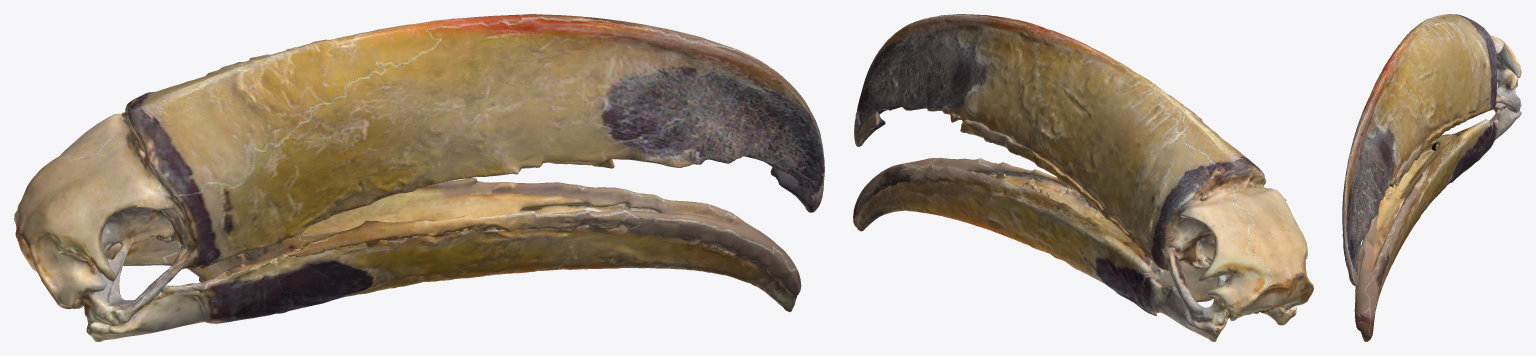
The model's file is tucan.glb.
The picture shows the model from 3 angles, left to right: view 1: azimuth 30°, elevation 25°; view 2: azimuth 150°, elevation 25°; view 3: azimuth 270°, elevation 25°; orthographic projection. The views are drawn at different scales.
Parts seen in each view (by area): view 1: Object_2; view 2: Object_2; view 3: Object_2.
Part boxes in pixels (<box>): Object_2: <box>14,14,824,341</box>; Object_2: <box>853,14,1313,341</box>; Object_2: <box>1342,14,1521,341</box>.
Size of the model in its own units: 0.2498 by 0.1195 by 0.0964.
1 material, 1 textured.
